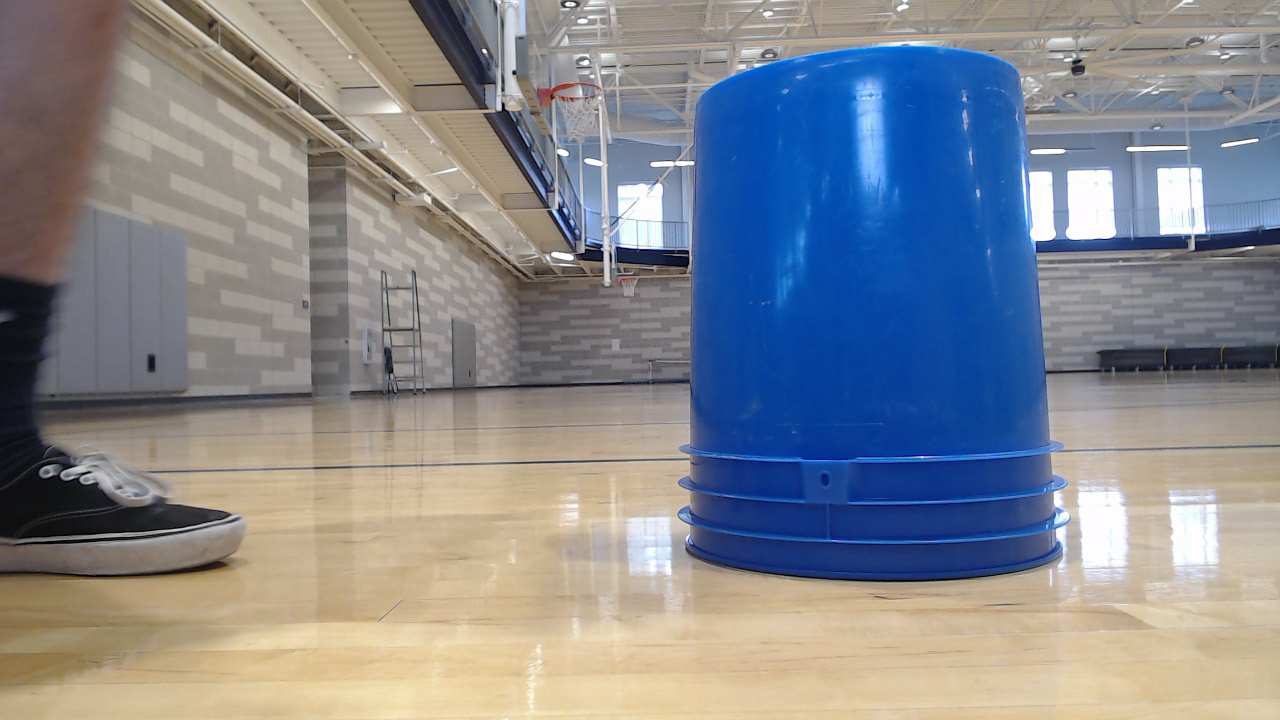blue_bucket: (681, 50, 1077, 584)
